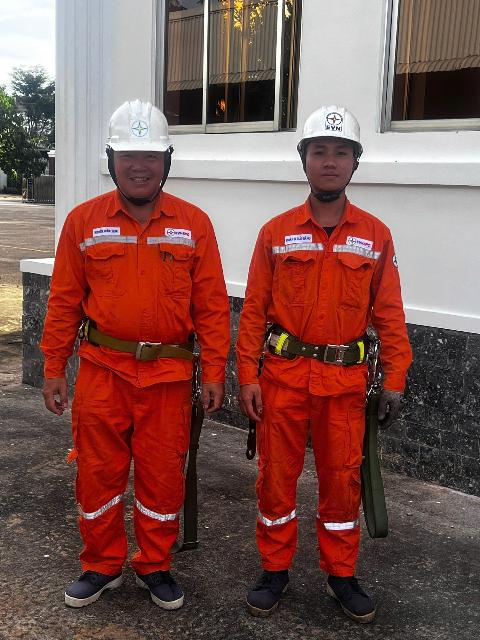gloves: (366, 386, 405, 434)
harness: (243, 318, 395, 384), (84, 308, 212, 376)
helmet: (88, 80, 191, 170), (290, 103, 371, 172)
shoes: (308, 554, 384, 631), (56, 547, 121, 614), (236, 560, 283, 622), (134, 554, 184, 607)
